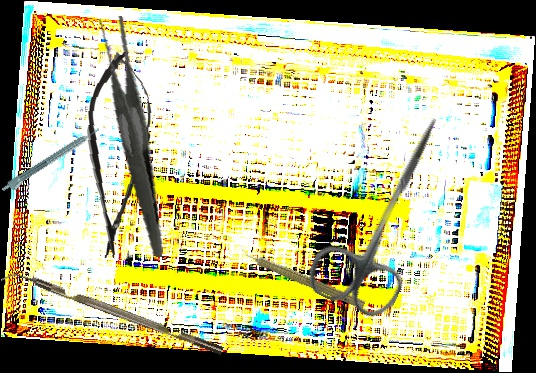Chopper: (0, 264, 224, 366)
Dressing Forceps: (71, 13, 191, 258)
Handpiece: (235, 242, 368, 312), (0, 125, 104, 198)
Iris Scissors: (301, 98, 473, 325)
Micro Scissor: (78, 49, 157, 261)
